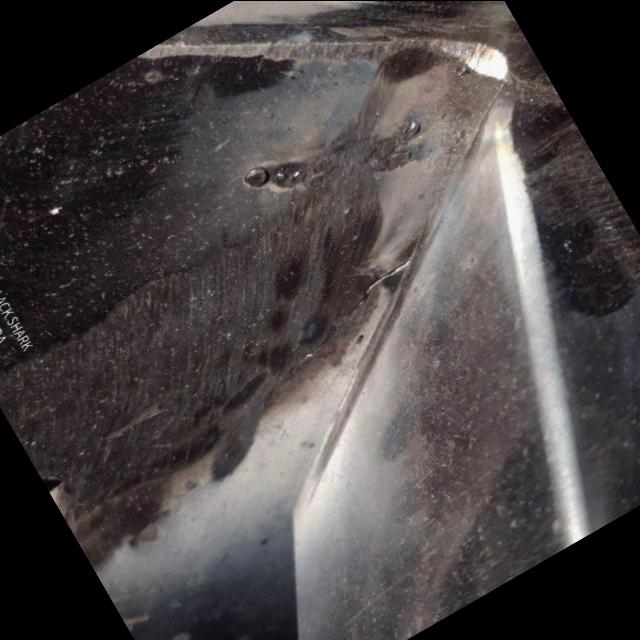defect: (294, 252, 419, 365)
